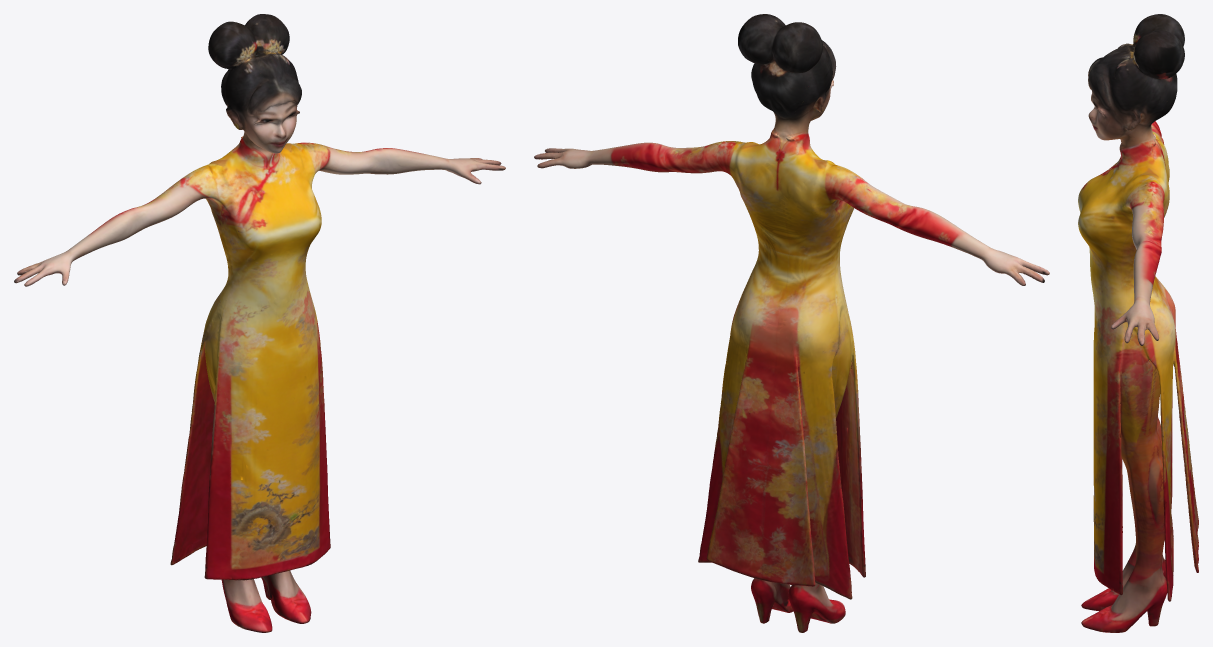
The model's file is asian_woman_red_and__0225041540_texture.fbx.
3 renders of one model, left to right at view 1: azimuth 30°, elevation 25°; view 2: azimuth 150°, elevation 25°; view 3: azimuth 270°, elevation 25°, orthographic. The views are drawn at different scales.
Visible parts, largest first — view 1: Mesh1_Mesh1.007; view 2: Mesh1_Mesh1.007; view 3: Mesh1_Mesh1.007.
Part boxes in pixels (left/top/right/bottom): Mesh1_Mesh1.007: left=14, top=14, right=505, bottom=632; Mesh1_Mesh1.007: left=534, top=14, right=1049, bottom=632; Mesh1_Mesh1.007: left=1078, top=14, right=1198, bottom=632.
Bounding box in the file's own units: 175 × 200 × 37.02.
Materials: 1 (1 with a texture image).
